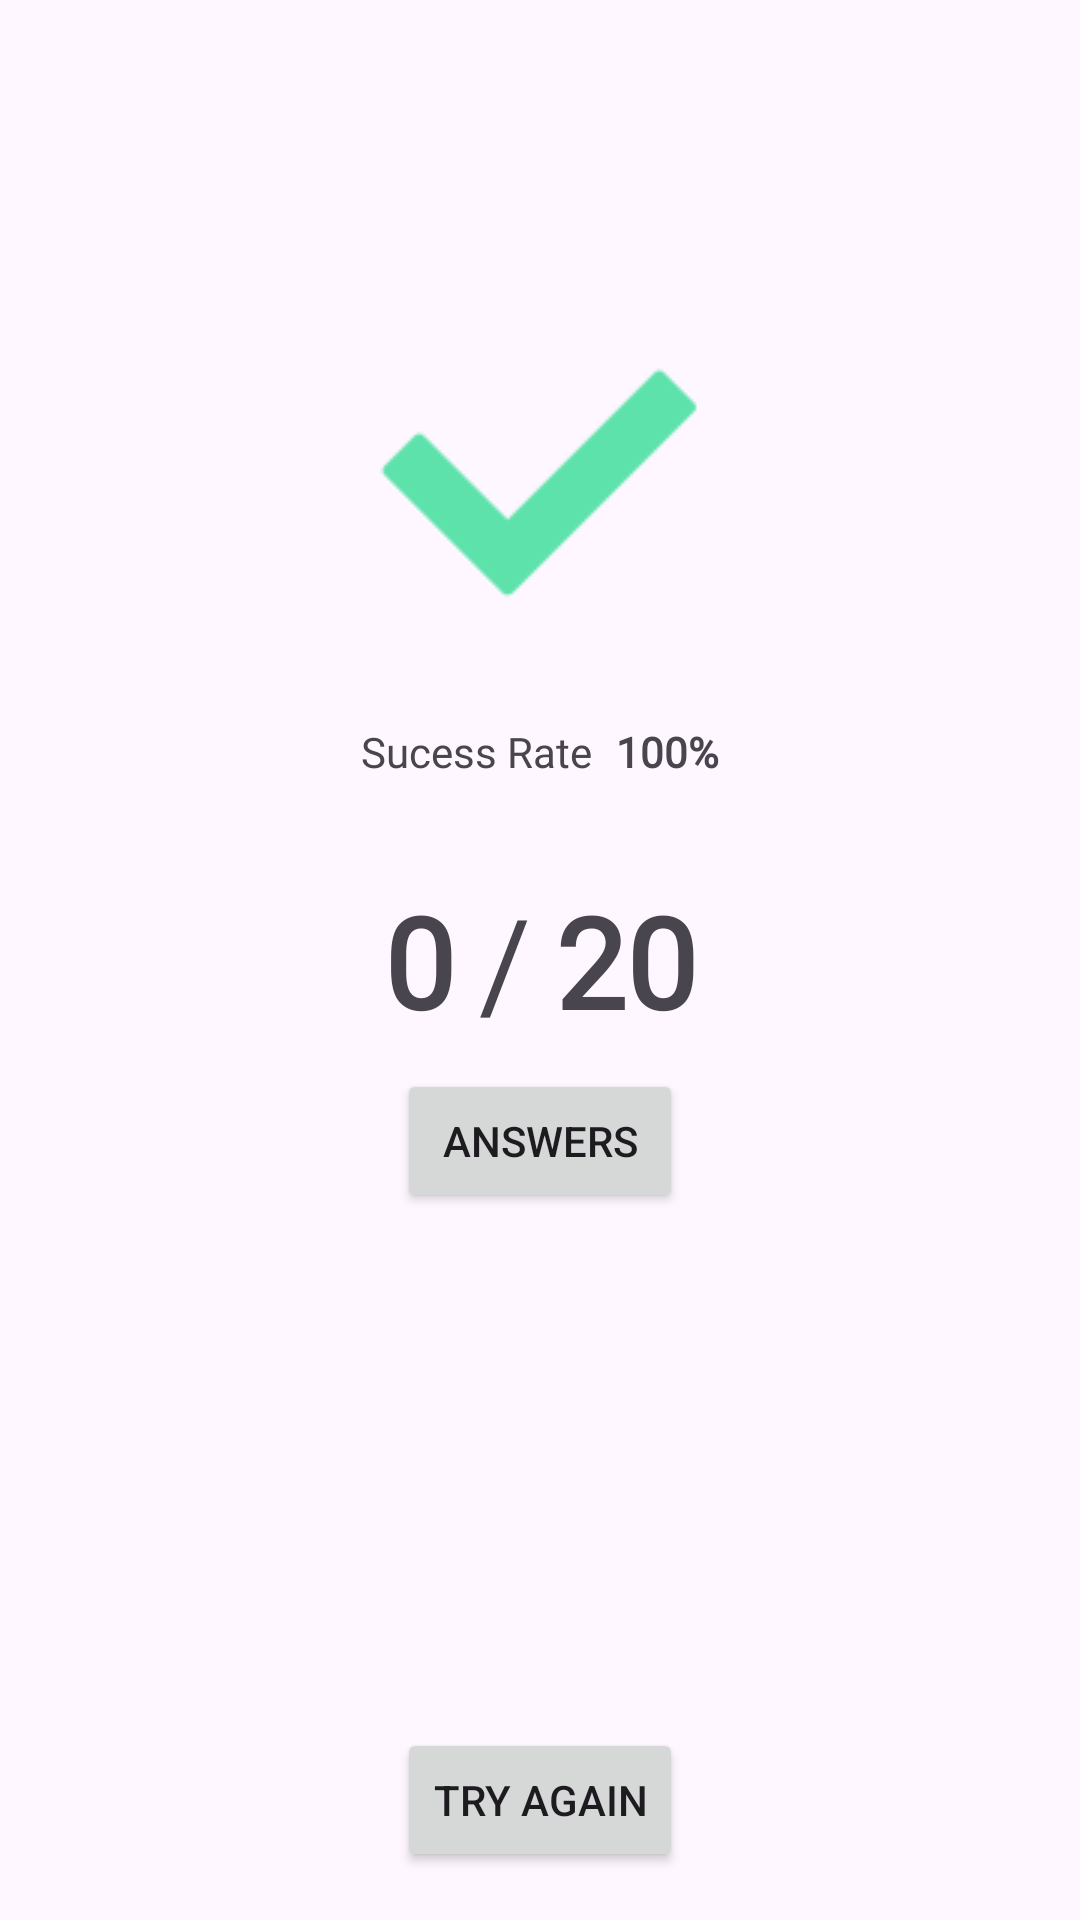

Icons on this 1080w x 1920h Android screen, each with its box as (x1, y1, x2, y2):
pass: (381, 369, 697, 597)
